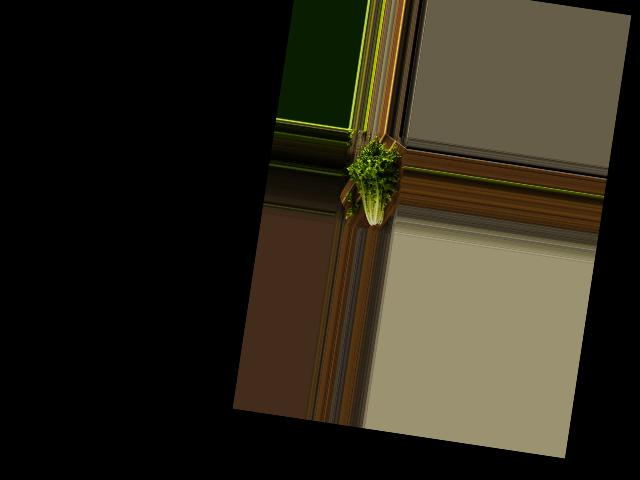lettuce: (340, 137, 404, 233)
